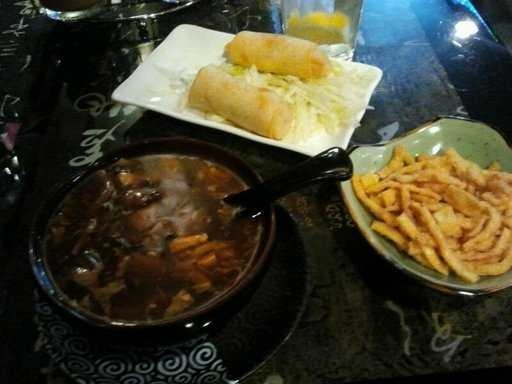soup: (18, 144, 284, 329)
